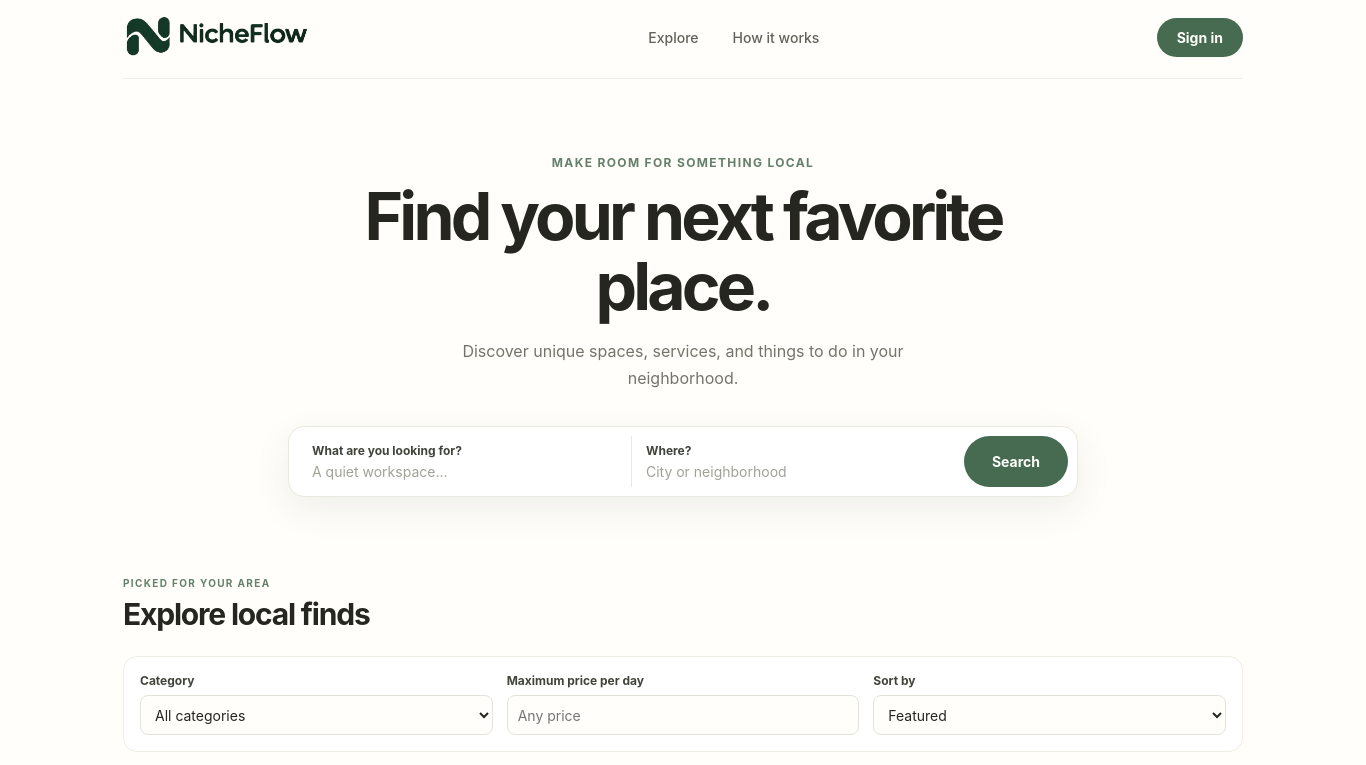
NicheFlow landing page › shows an empty-results message when nothing matches
In the search field labelled "What are you looking for?": (460, 472) top-left (312, 463), bottom-right (609, 480), type "spaceship"
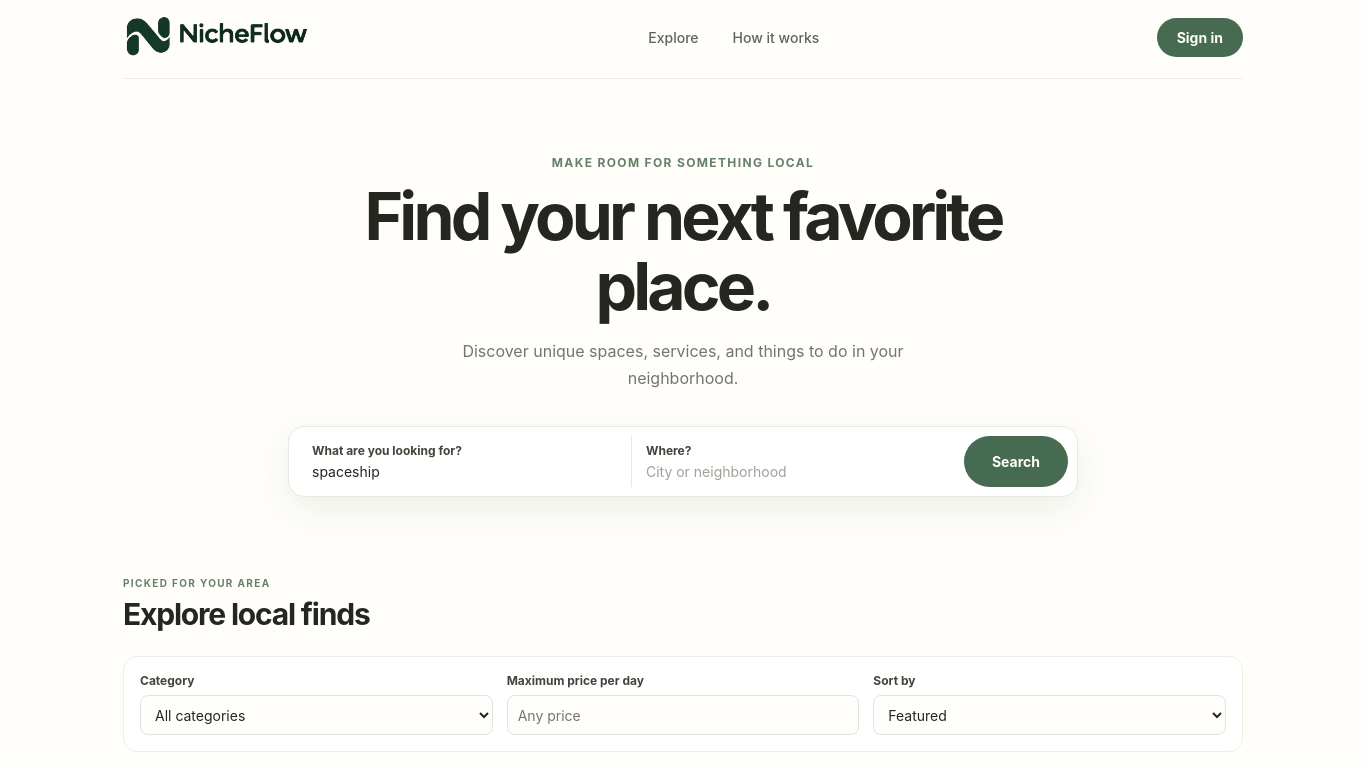
Click the button "Search": (1016, 462) top-left (964, 436), bottom-right (1068, 487)
(page scrolled)
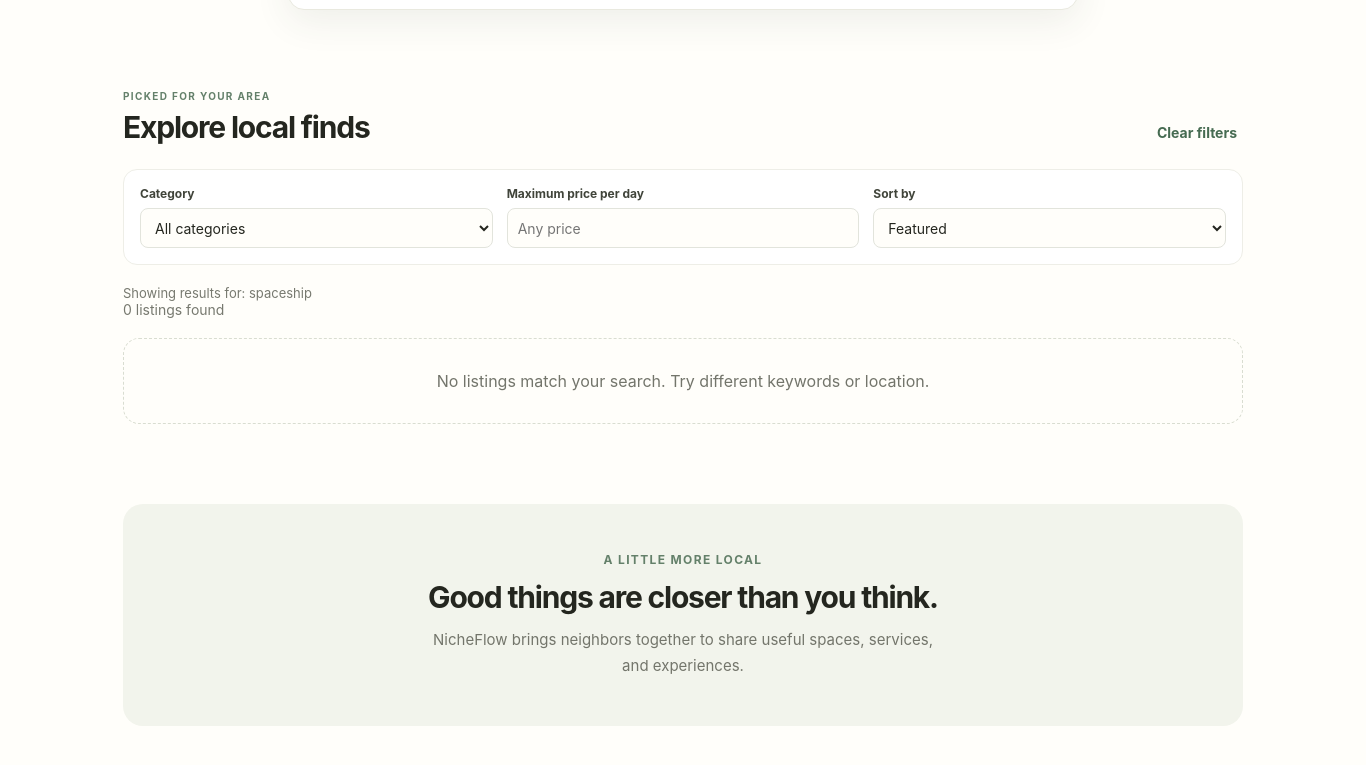
Now the text "0 listings found" is shown, box top-left (123, 301), bottom-right (224, 318)
Now the message reads "No listings match your search. Try different keywords or location.", box top-left (437, 371), bottom-right (929, 391)
